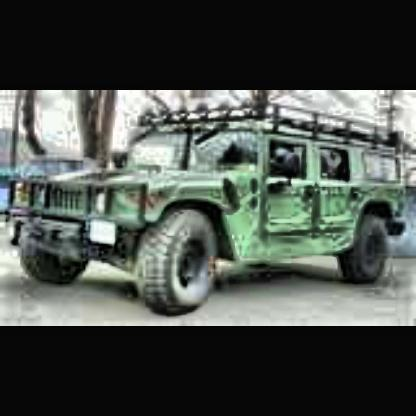AM General Hummer SUV 2000: (4, 103, 416, 321)
